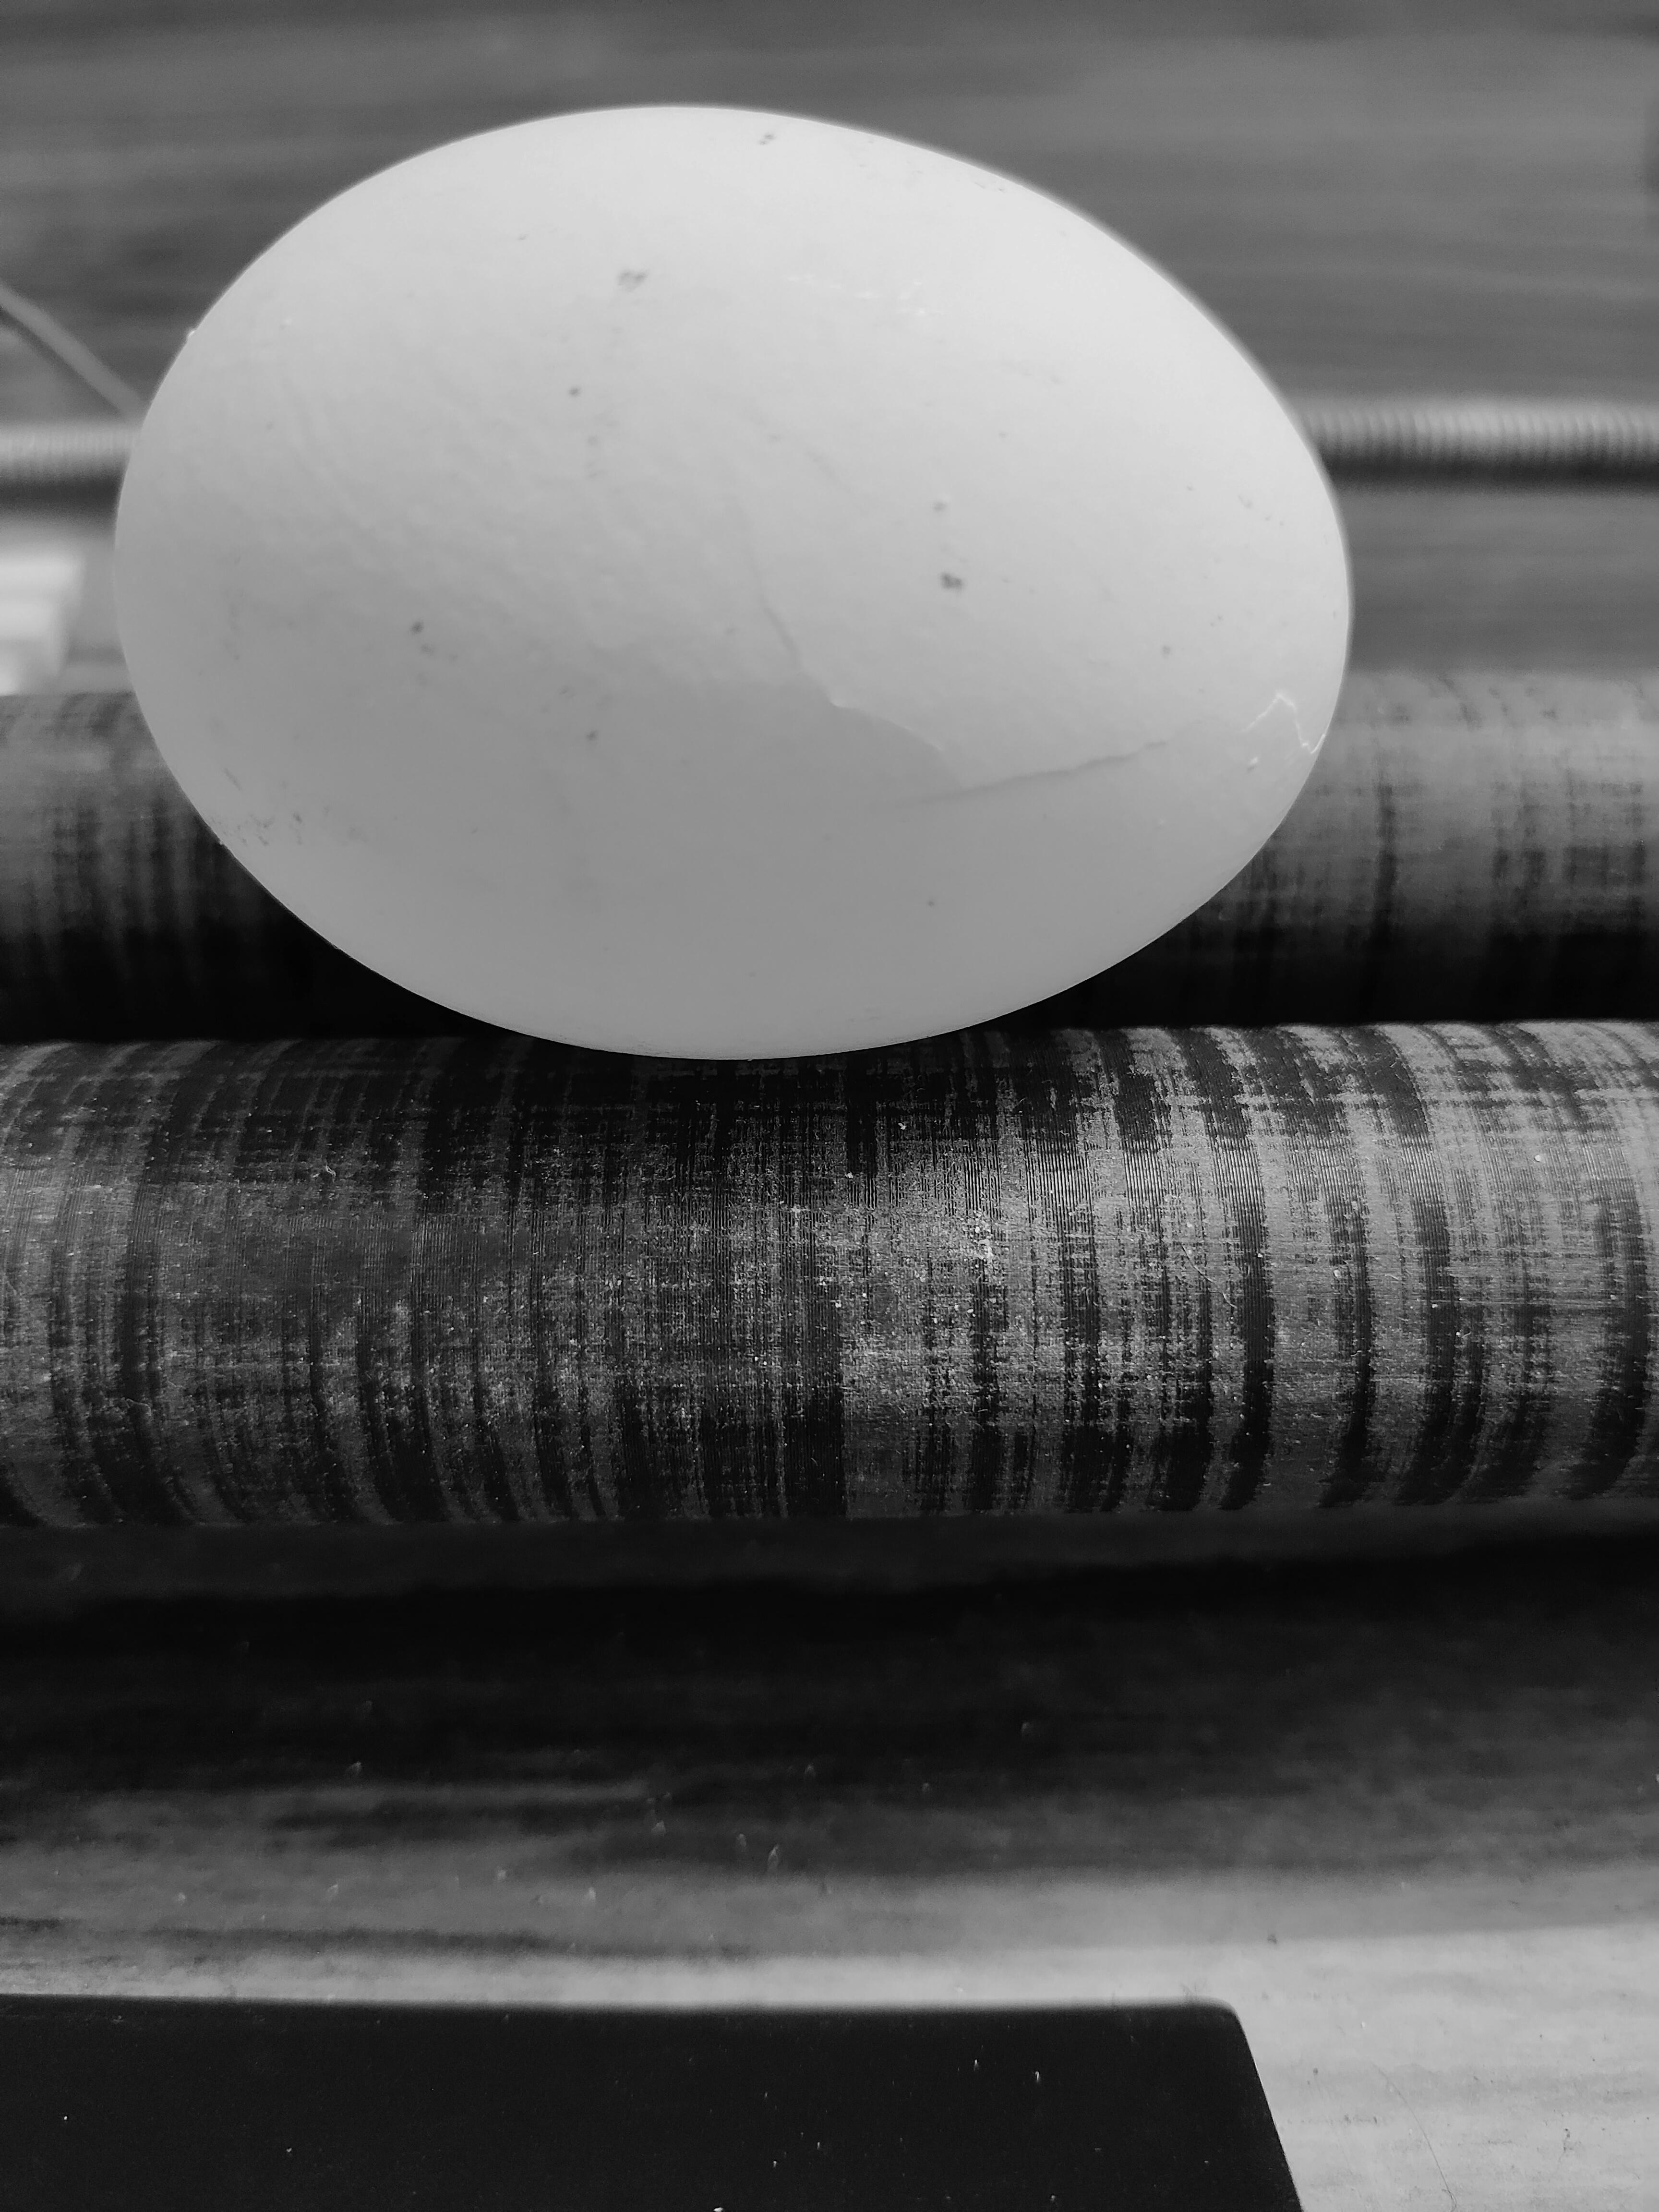telur: (87, 59, 1392, 1090)
